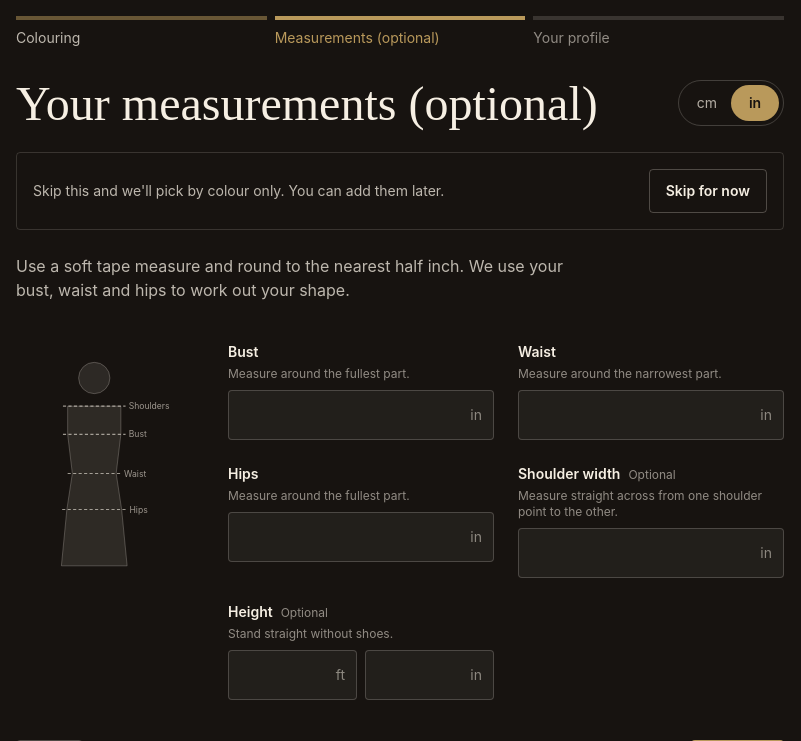
Test: measurement units › converts what was typed when switching units and remembers the choice
Click the button "cm" at (707, 103), box [683,85,731,121]
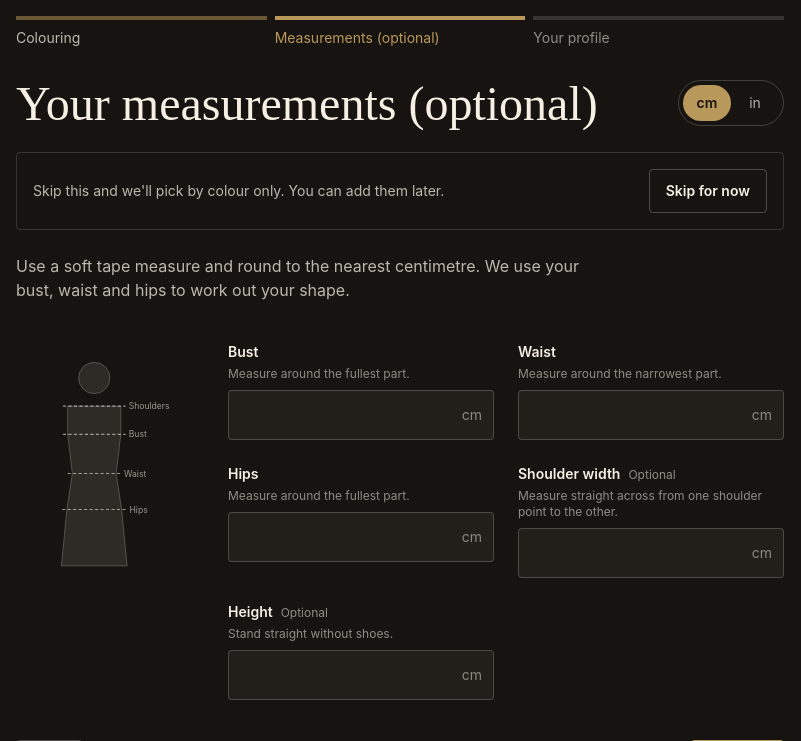
Type "90" into the number field labelled "Bust Measure around the fullest part. cm" at (361, 415), box [228,390,494,440]
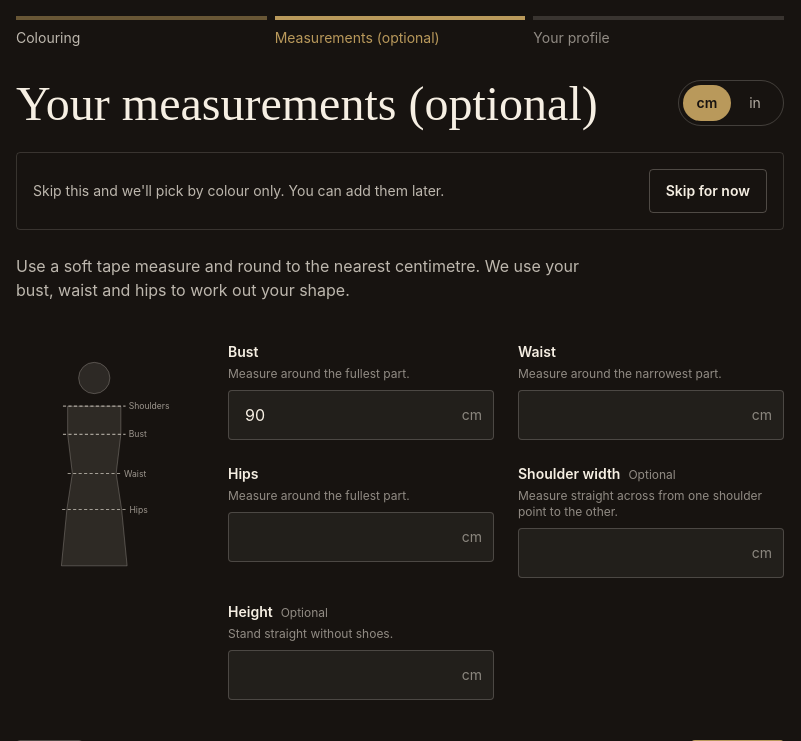
Type "170" into the number field labelled "Height" at (361, 675), box [228,650,494,700]
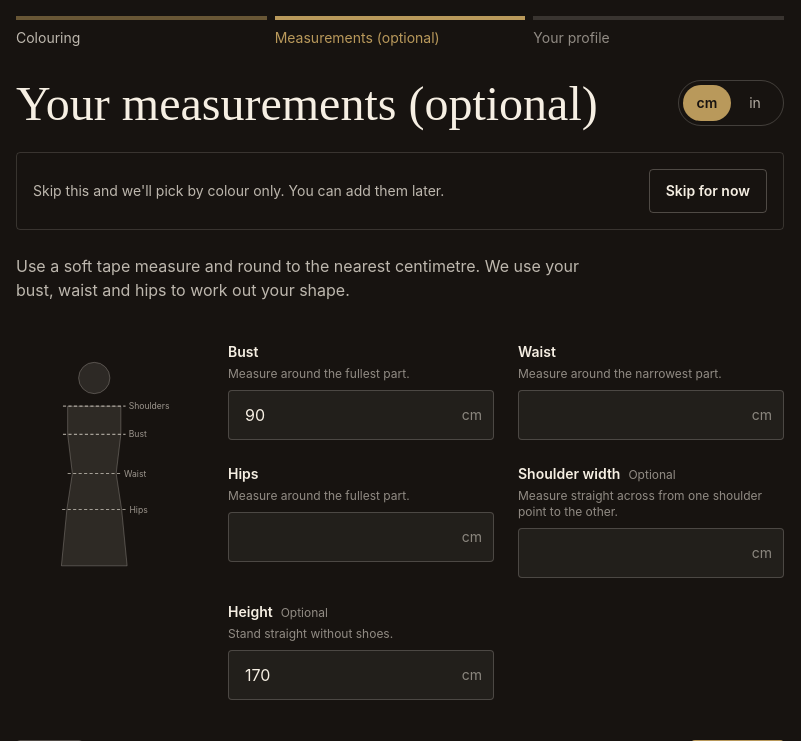
Click the button "in" at (755, 103), box [731,85,779,121]
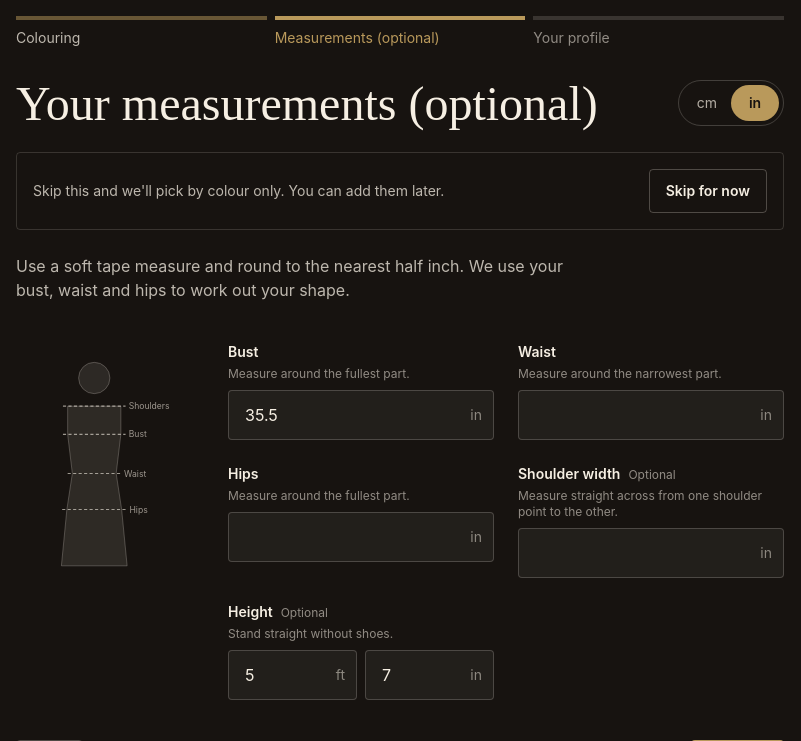
Check: the number field labelled "Bust Measure around the fullest part. in" holds "35.5", box [228,390,494,440]
Check: the number field named "Height, feet" holds "5", box [228,650,357,700]
Check: the number field named "Height, inches" holds "7", box [365,650,494,700]
